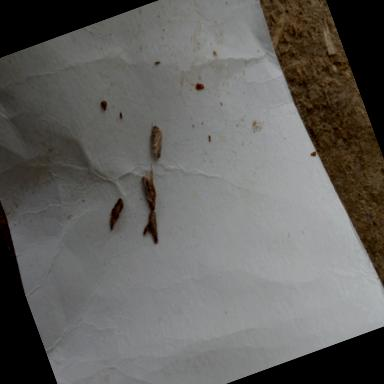pbw: (134, 163, 168, 212), (136, 210, 166, 248), (142, 121, 170, 160), (102, 197, 132, 231)
